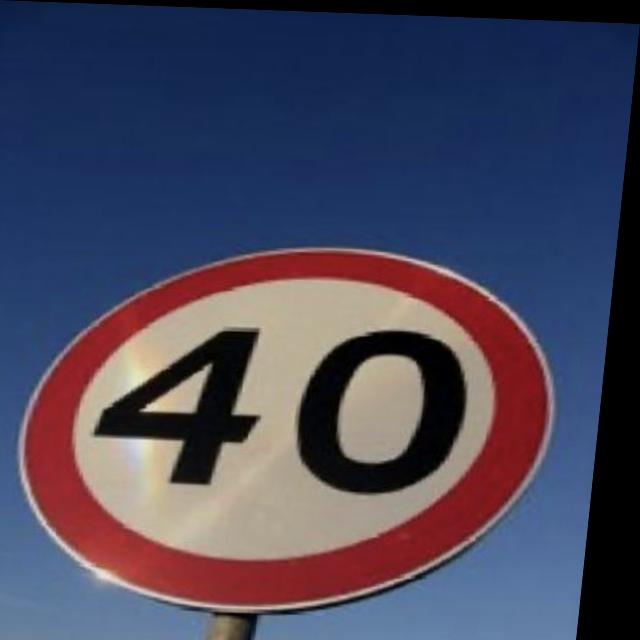limit40: (9, 224, 587, 619)
